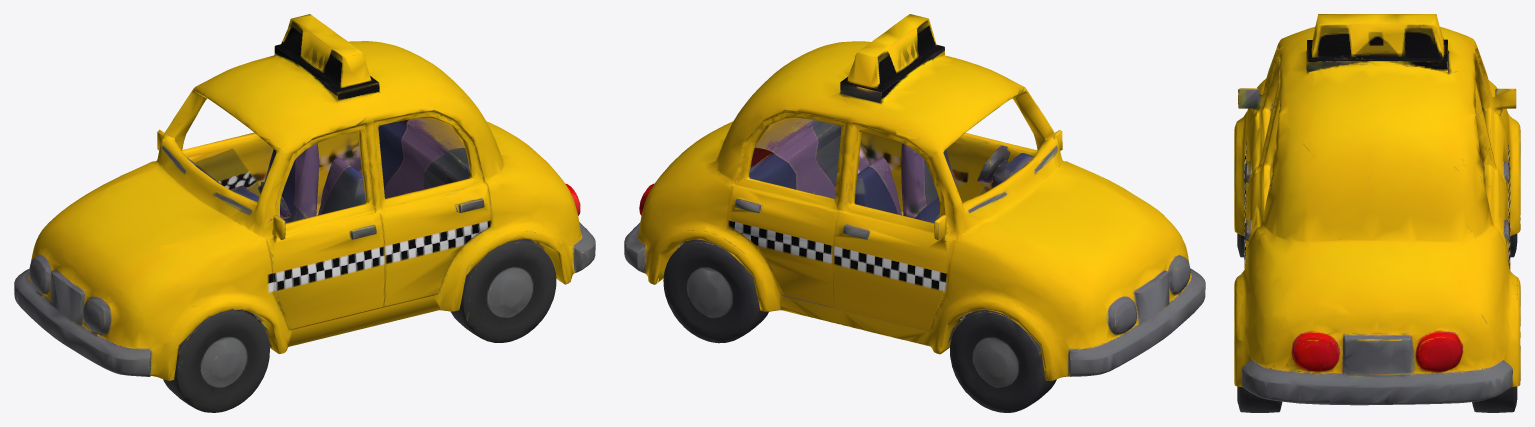
3 views of the same model, side by side, from view 1: azimuth 30°, elevation 25°; view 2: azimuth 150°, elevation 25°; view 3: azimuth 270°, elevation 25° (orthographic). The views are drawn at different scales.
Parts seen in each view (by area): view 1: Mesh_0; view 2: Mesh_0; view 3: Mesh_0.
Part boxes in pixels (bbox=[...]): Mesh_0: bbox=[14, 14, 595, 412]; Mesh_0: bbox=[624, 14, 1205, 412]; Mesh_0: bbox=[1234, 14, 1520, 412].
Bounding box in the file's own units: 1.9 × 1.06 × 0.8517.
1 material, 1 textured.
